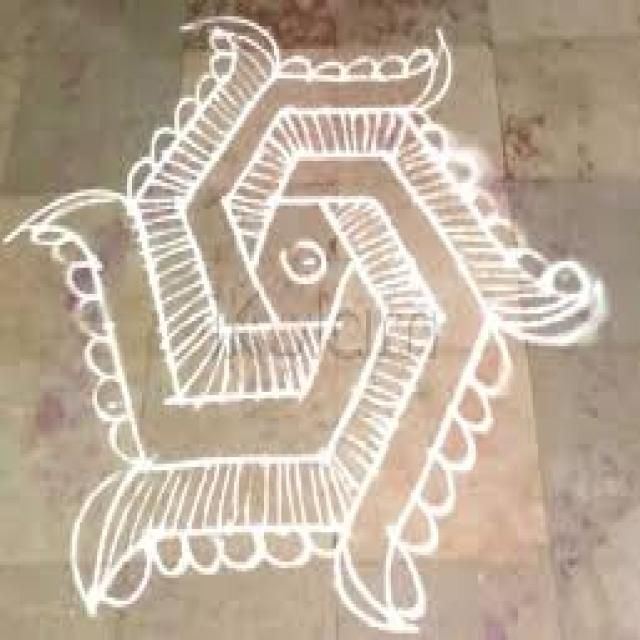rangoli: (2, 0, 616, 640)
